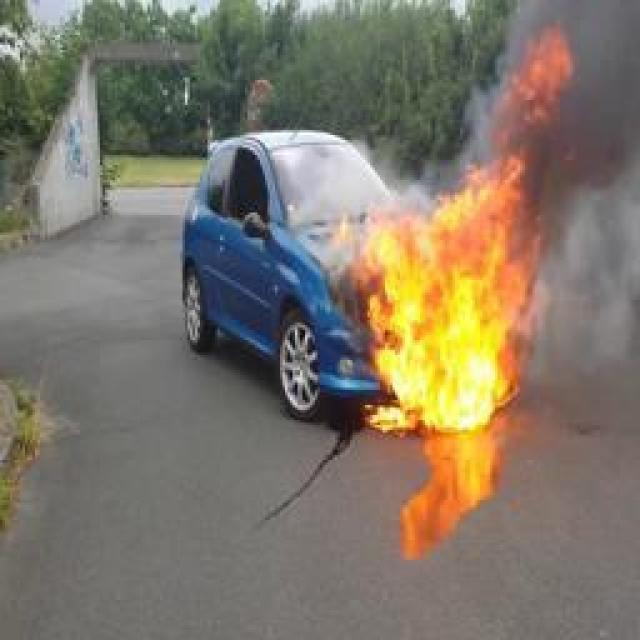Fire: (361, 25, 574, 433)
